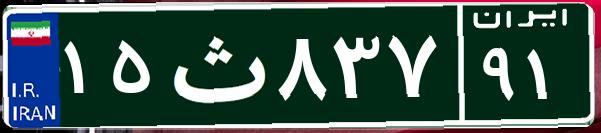1: (57, 26, 110, 107), (525, 38, 570, 115)
3: (330, 28, 385, 110)
5: (110, 28, 158, 105)
7: (385, 28, 445, 110)
8: (273, 28, 330, 110)
9: (475, 38, 525, 113)
ث: (158, 15, 273, 115)
